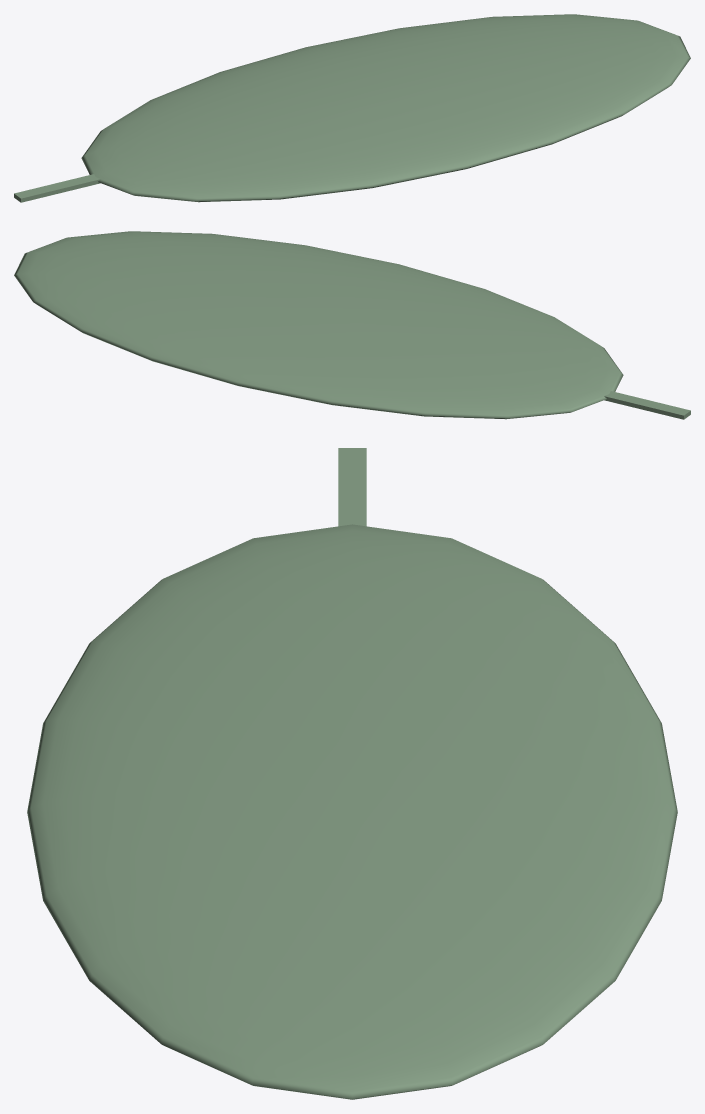
Rendered from Leaf boat.fbx.
3 views of the same model, one above another, from view 1: azimuth 30°, elevation 25°; view 2: azimuth 150°, elevation 25°; view 3: azimuth 270°, elevation 25° (orthographic). The views are drawn at different scales.
Parts seen in each view (by area): view 1: pCube2; view 2: pCube2; view 3: pCube2.
Boxes of the visible parts, <box> form: pCube2: <box>14,14,690,202</box>; pCube2: <box>14,231,690,419</box>; pCube2: <box>27,448,677,1099</box>.
Bounding box in the file's own units: 480 × 18.82 × 204.
